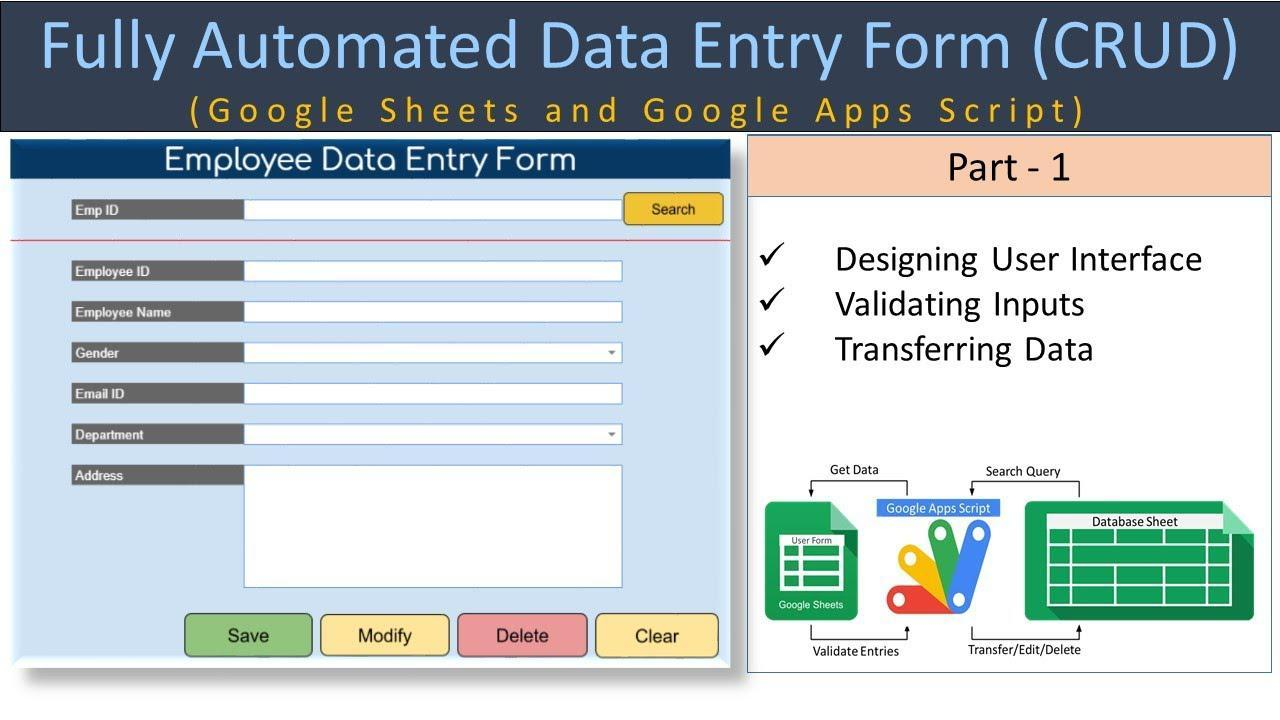button: (596, 614, 723, 664), (184, 613, 316, 658), (459, 615, 591, 660), (320, 616, 452, 657), (624, 193, 727, 229)
dropdown: (245, 419, 626, 450), (242, 342, 625, 366)
input: (246, 299, 627, 330), (241, 197, 625, 224), (245, 261, 624, 286), (245, 384, 625, 407)
label: (73, 301, 180, 327), (68, 425, 158, 450), (69, 380, 136, 405), (71, 260, 154, 279), (75, 198, 137, 221), (67, 466, 129, 487), (70, 345, 138, 364)
